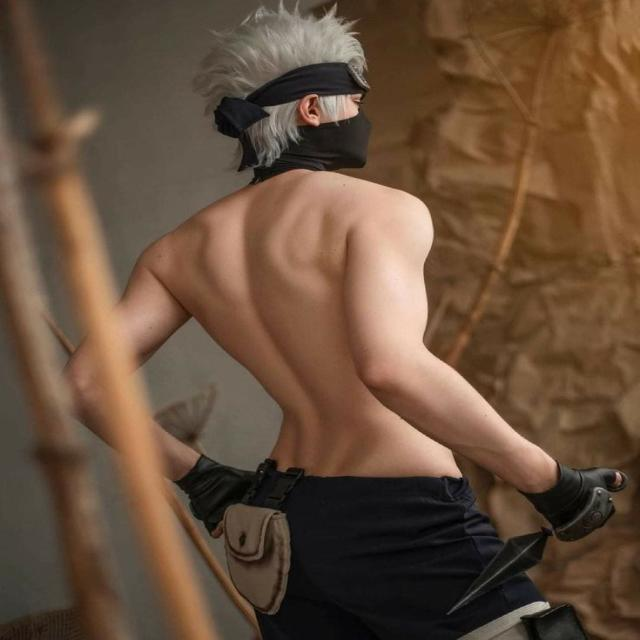stand: (174, 0, 514, 640)
